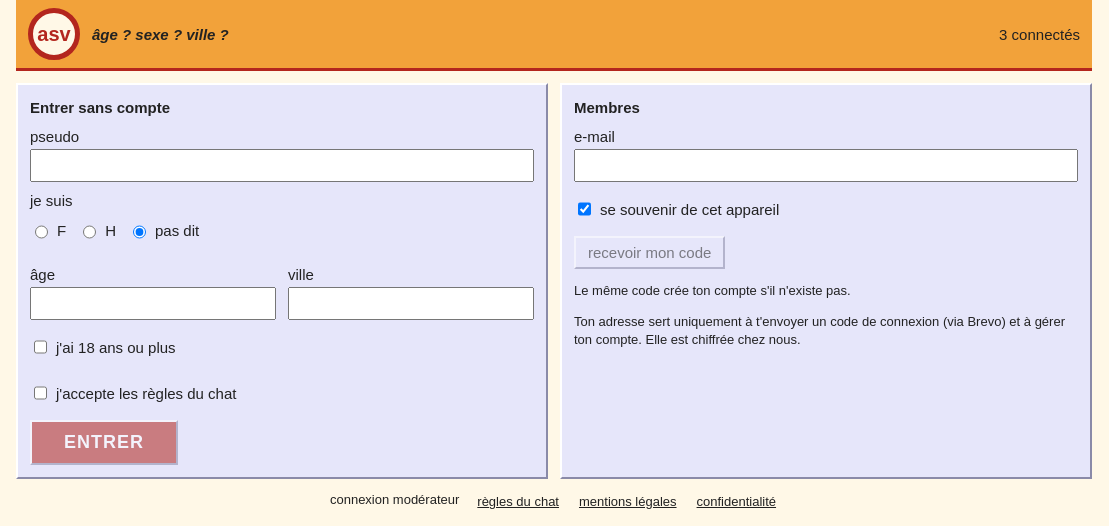
Test: entry screen › keeps ENTRER disabled when only the adult box is missing
Type "  ana  " into the field labelled "pseudo".
click(282, 166); type("  ana  ")  # box [30,149,534,182]
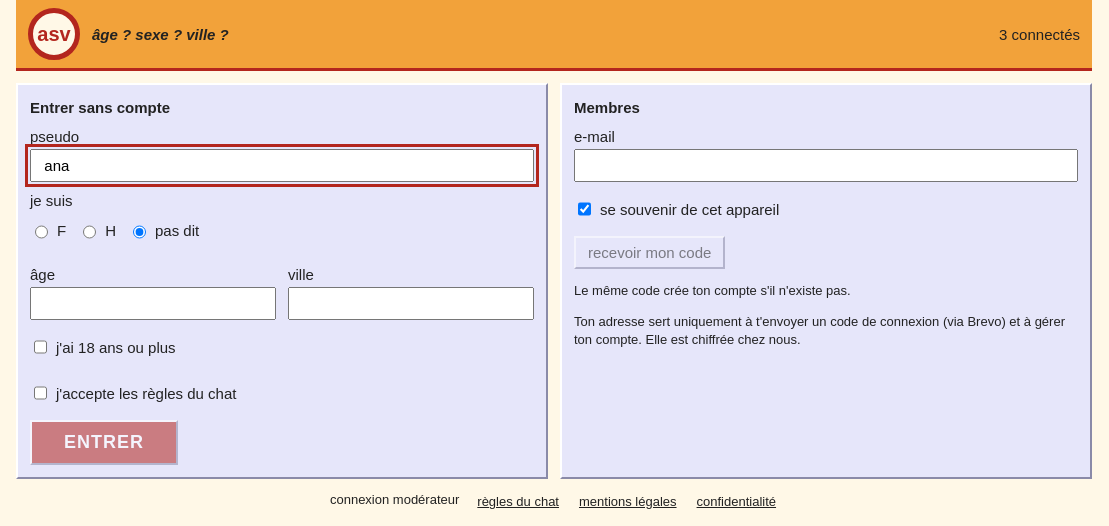
Type "30" into the number field labelled "âge".
click(153, 304); type("30")  # box [30,287,276,320]
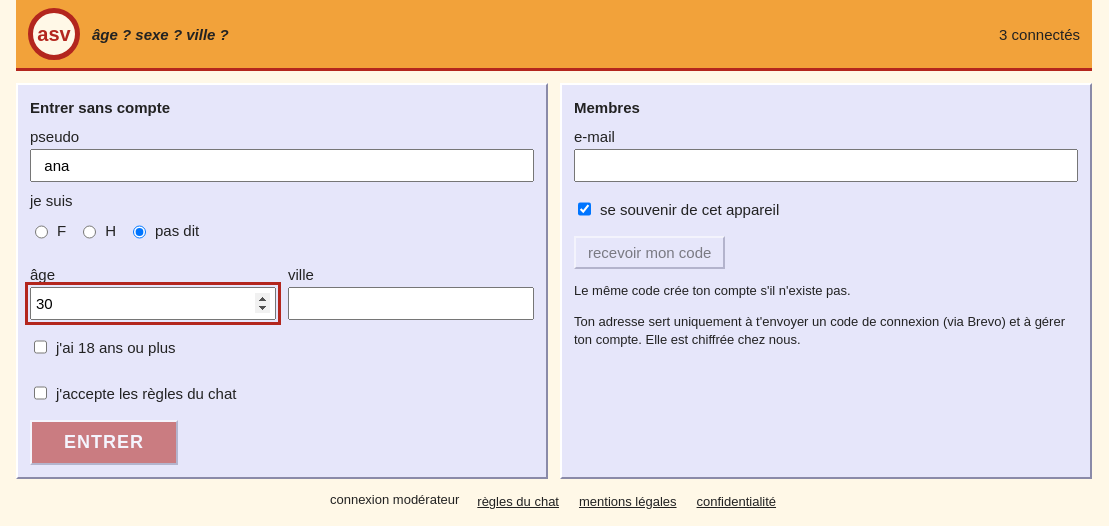
Click the checkbox labelled "j'ai 18 ans ou plus".
click(40, 347)  # box [34,331,47,363]
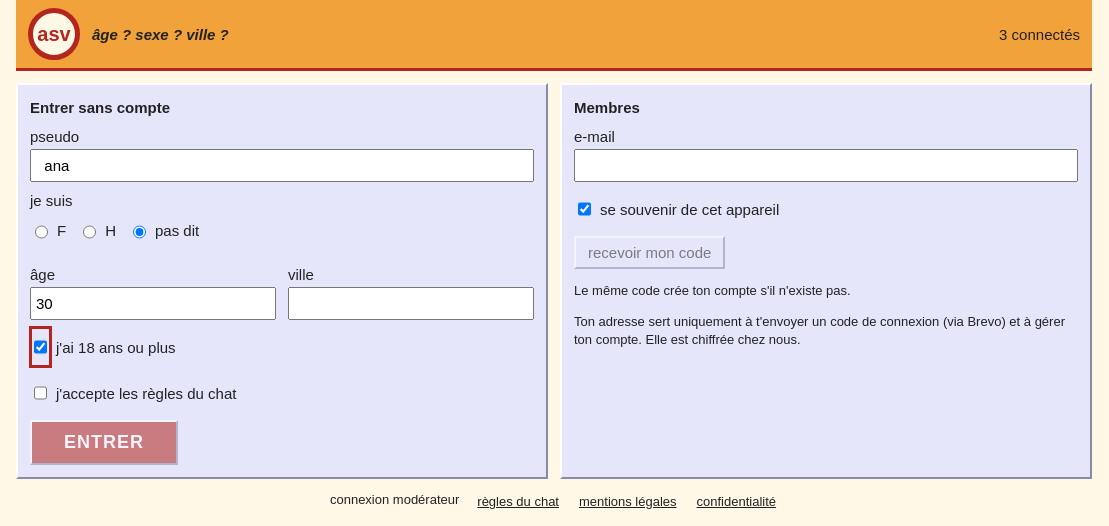
Click the checkbox labelled "j'accepte les règles du chat".
click(40, 393)  # box [34,377,47,409]
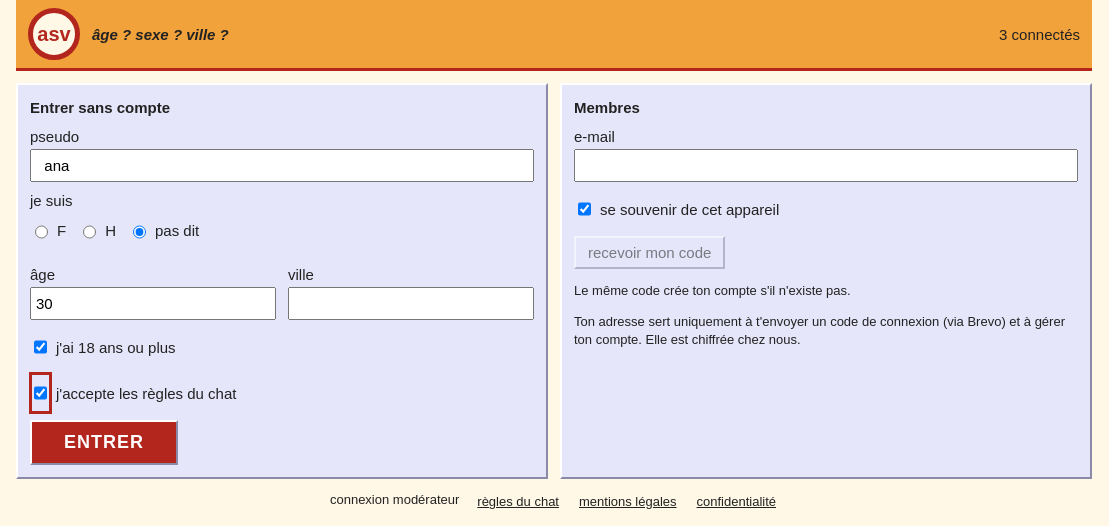
Click the checkbox labelled "j'ai 18 ans ou plus".
click(40, 347)  # box [34,331,47,363]
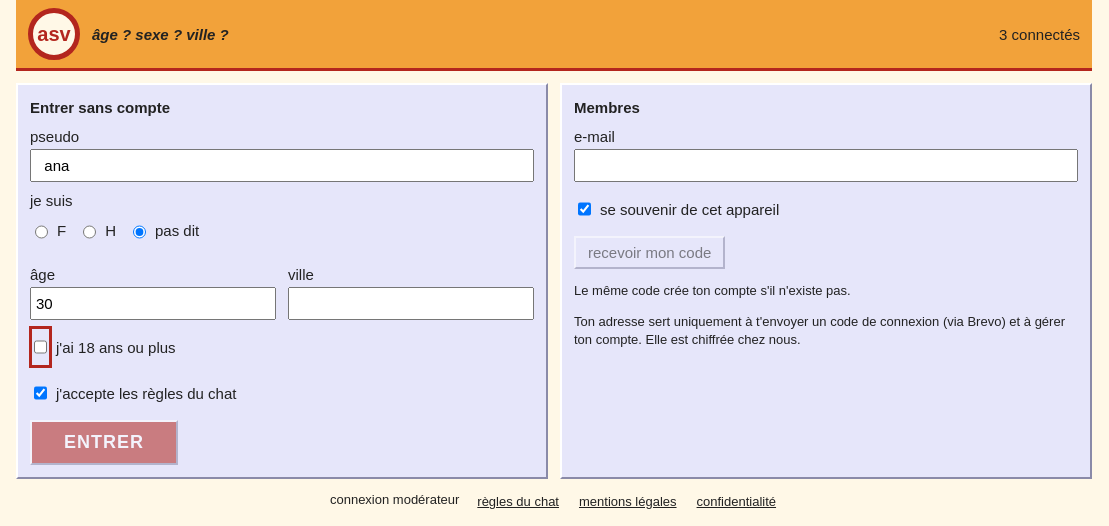
Now the button "ENTRER" is disabled, box [30,420,178,465]
